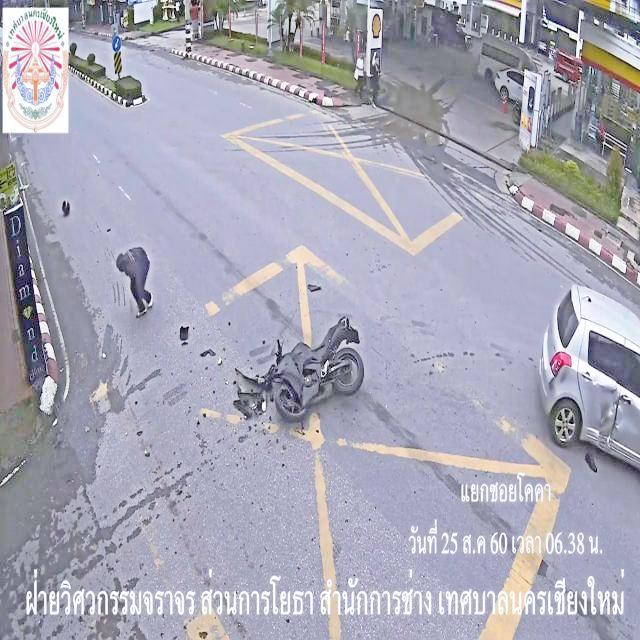Car: (541, 287, 640, 468)
Minor Accident: (227, 276, 640, 480)
Motor: (235, 318, 368, 428)
